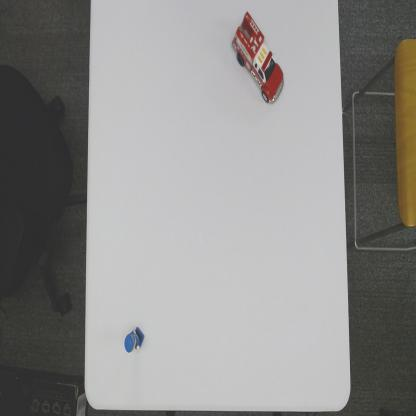Firetruck: (231, 9, 285, 105)
